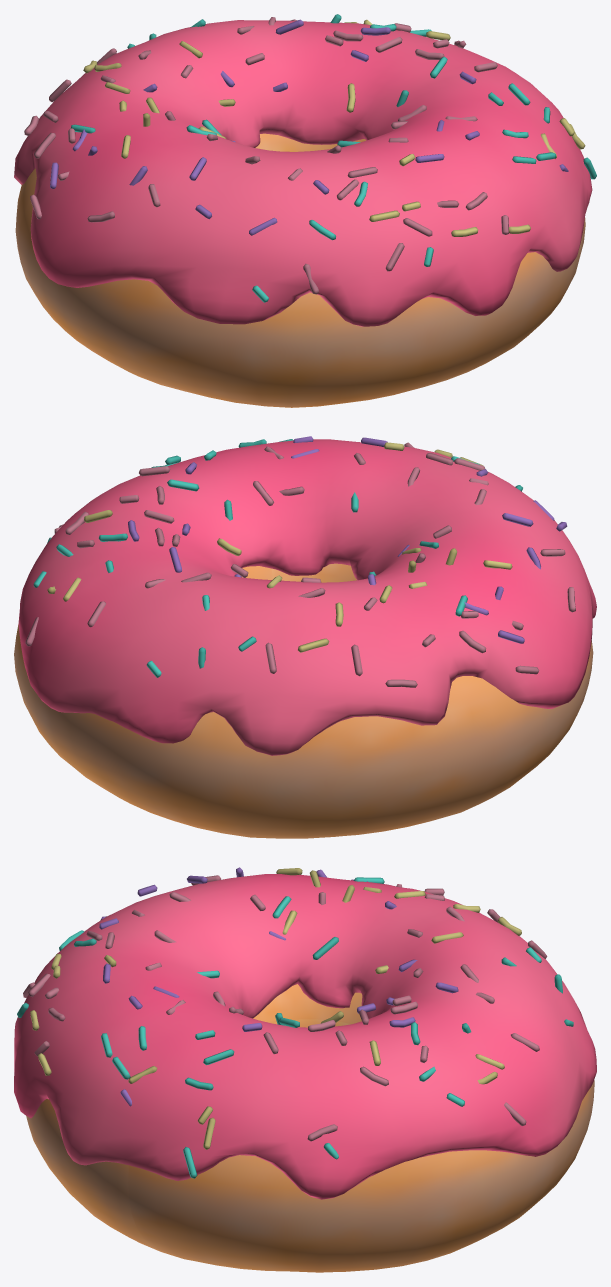
Rendered from donut-v2.glb.
The picture shows the model from 3 angles, top to bottom: view 1: azimuth 30°, elevation 25°; view 2: azimuth 150°, elevation 25°; view 3: azimuth 270°, elevation 25°; orthographic projection.
Parts seen in each view (by area): view 1: Donut_1; view 2: Donut_1; view 3: Donut_1.
Part boxes in pixels (box(x1,y1,x2,y2)): Donut_1: box(14, 14, 596, 407); Donut_1: box(14, 436, 596, 838); Donut_1: box(14, 867, 596, 1272).
Size of the model in its own units: 0.6884 by 0.3116 by 0.6714.
1 material, 1 textured.
